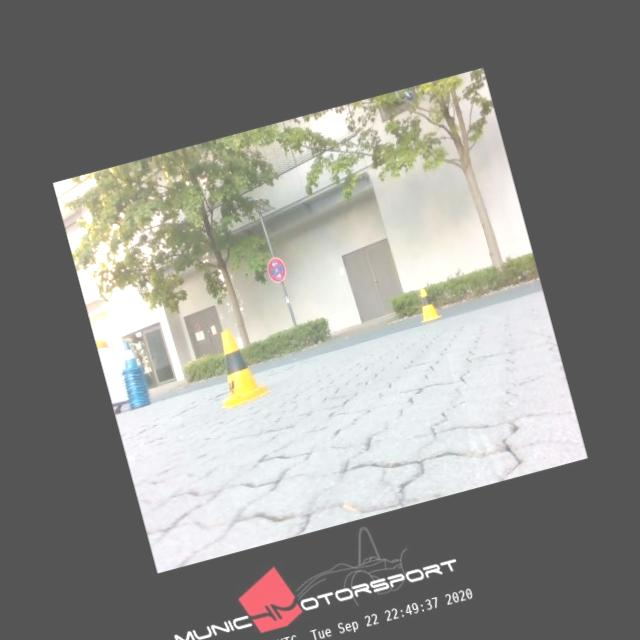blue_cone: (113, 338, 141, 372)
yellow_cone: (204, 322, 272, 406), (412, 285, 441, 323)
